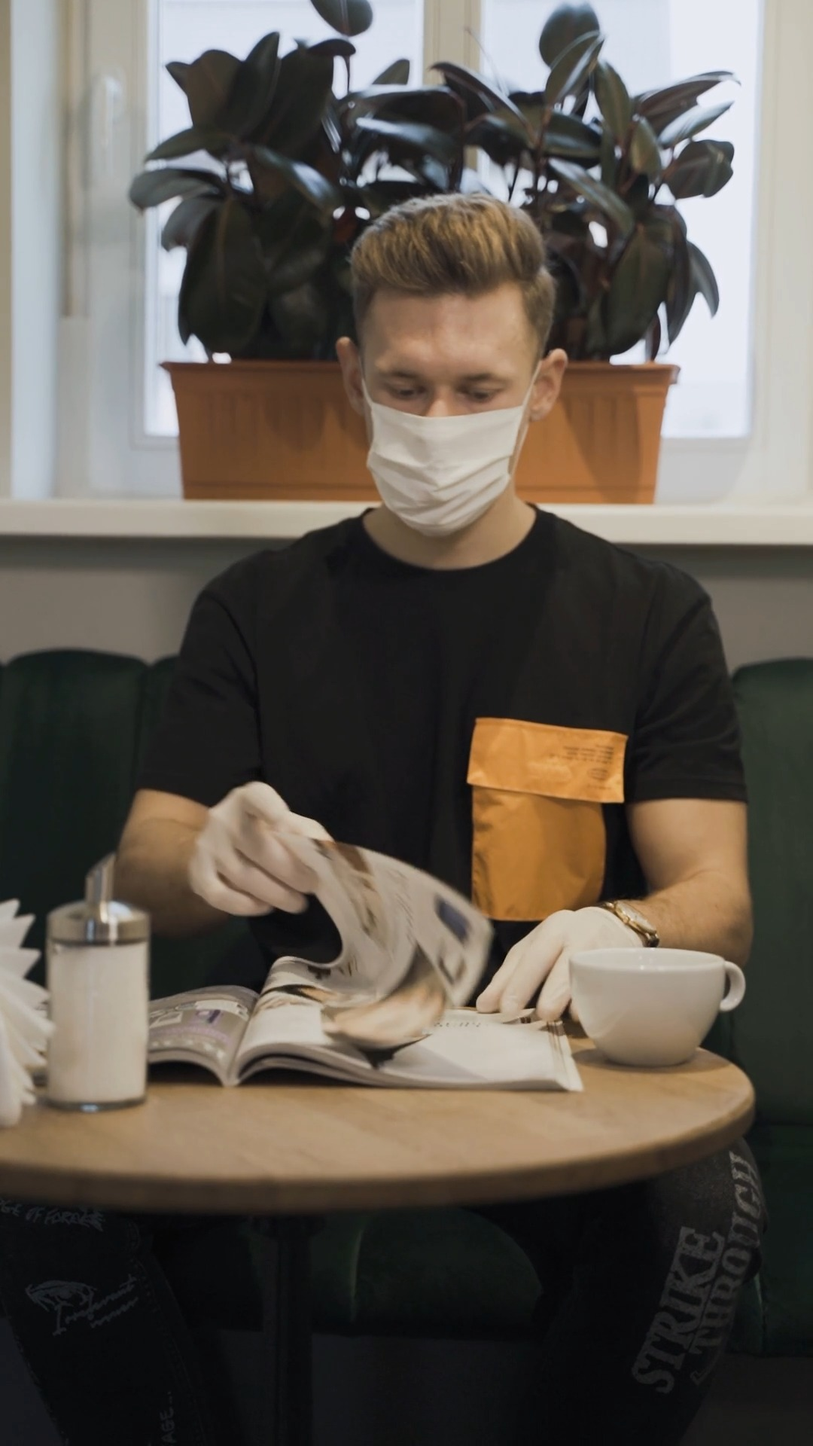gloves: (201, 748, 339, 957), (504, 869, 677, 1031)
